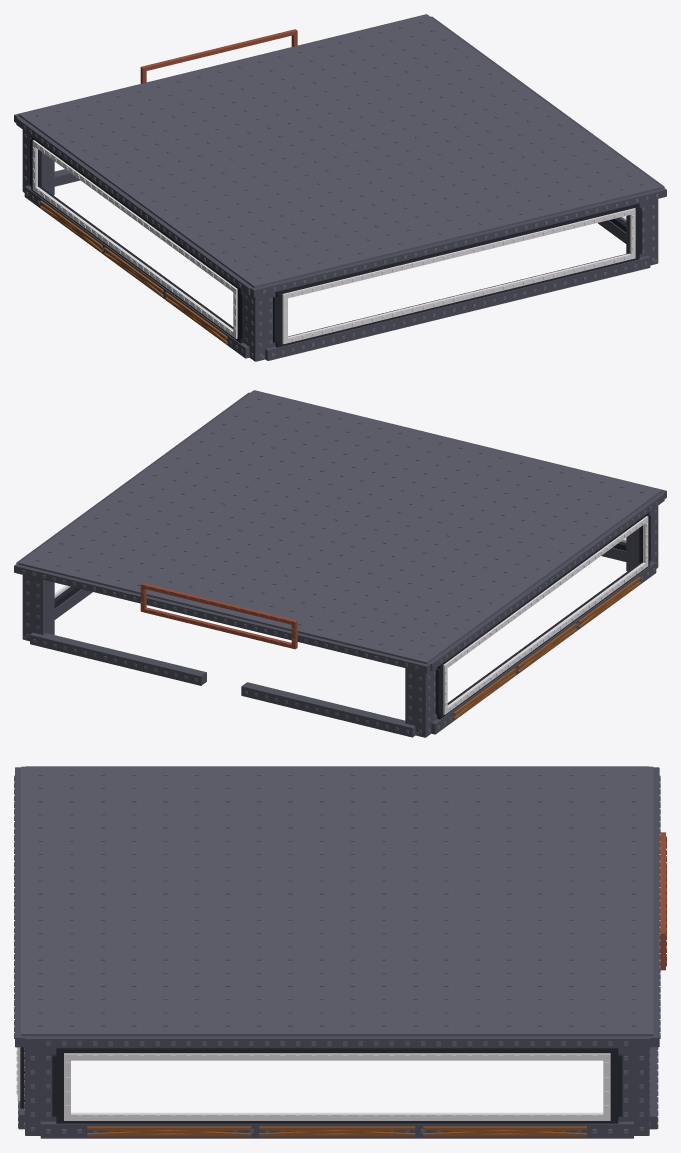
The model's file is BaseIndustrial.fbx.
The picture shows the model from 3 angles, top to bottom: view 1: azimuth 30°, elevation 25°; view 2: azimuth 150°, elevation 25°; view 3: azimuth 270°, elevation 25°; orthographic projection. The views are drawn at different scales.
Visible parts, largest first — view 1: BI_Roof, BI_Colunas, BI_MoldurasBrancas, BI_Estrutura, BI_StudsCinza, BI_CercaMadeira, BI_MolduraPlaca; view 2: BI_Roof, BI_Colunas, BI_MoldurasBrancas, BI_Estrutura, BI_MolduraPlaca, BI_StudsCinza, BI_CercaMadeira; view 3: BI_Roof, BI_Colunas, BI_MoldurasBrancas, BI_Estrutura, BI_CercaMadeira, BI_StudsCinza, BI_MolduraPlaca.
Part boxes in pixels (x1,y1,x2,y2): BI_Roof: (19,14,661,287); BI_Colunas: (14,14,666,361); BI_MoldurasBrancas: (32,140,635,344); BI_Estrutura: (30,136,642,347); BI_StudsCinza: (23,126,658,358); BI_CercaMadeira: (39,200,227,343); BI_MolduraPlaca: (140,29,297,83); BI_Roof: (19,390,661,663); BI_Colunas: (14,390,666,737); BI_MoldurasBrancas: (54,516,648,714); BI_Estrutura: (54,512,650,719); BI_MolduraPlaca: (140,583,297,649); BI_StudsCinza: (22,502,657,735); BI_CercaMadeira: (453,576,641,719); BI_Roof: (21,766,653,1036); BI_Colunas: (15,766,659,1138); BI_MoldurasBrancas: (16,1047,610,1120); BI_Estrutura: (20,1047,622,1123); BI_CercaMadeira: (87,1126,586,1136); BI_StudsCinza: (14,775,660,1133); BI_MolduraPlaca: (660,832,666,970).
Size of the model in its own units: 16566 by 3417 by 16730.
